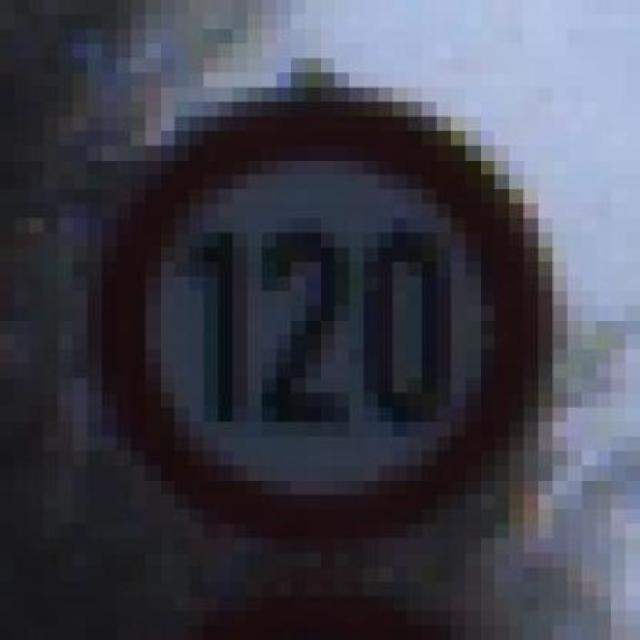forb_speed_over_120: (105, 103, 543, 537)
